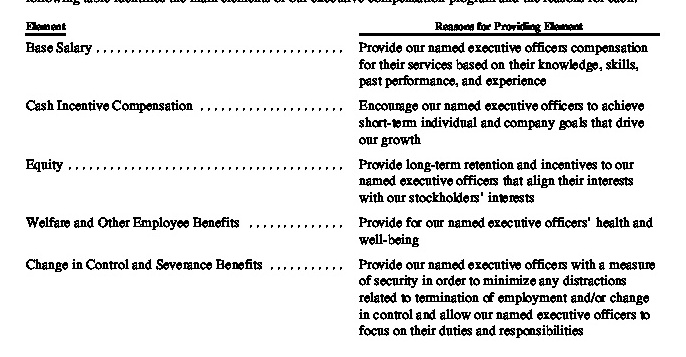table: (0, 0, 686, 357)
